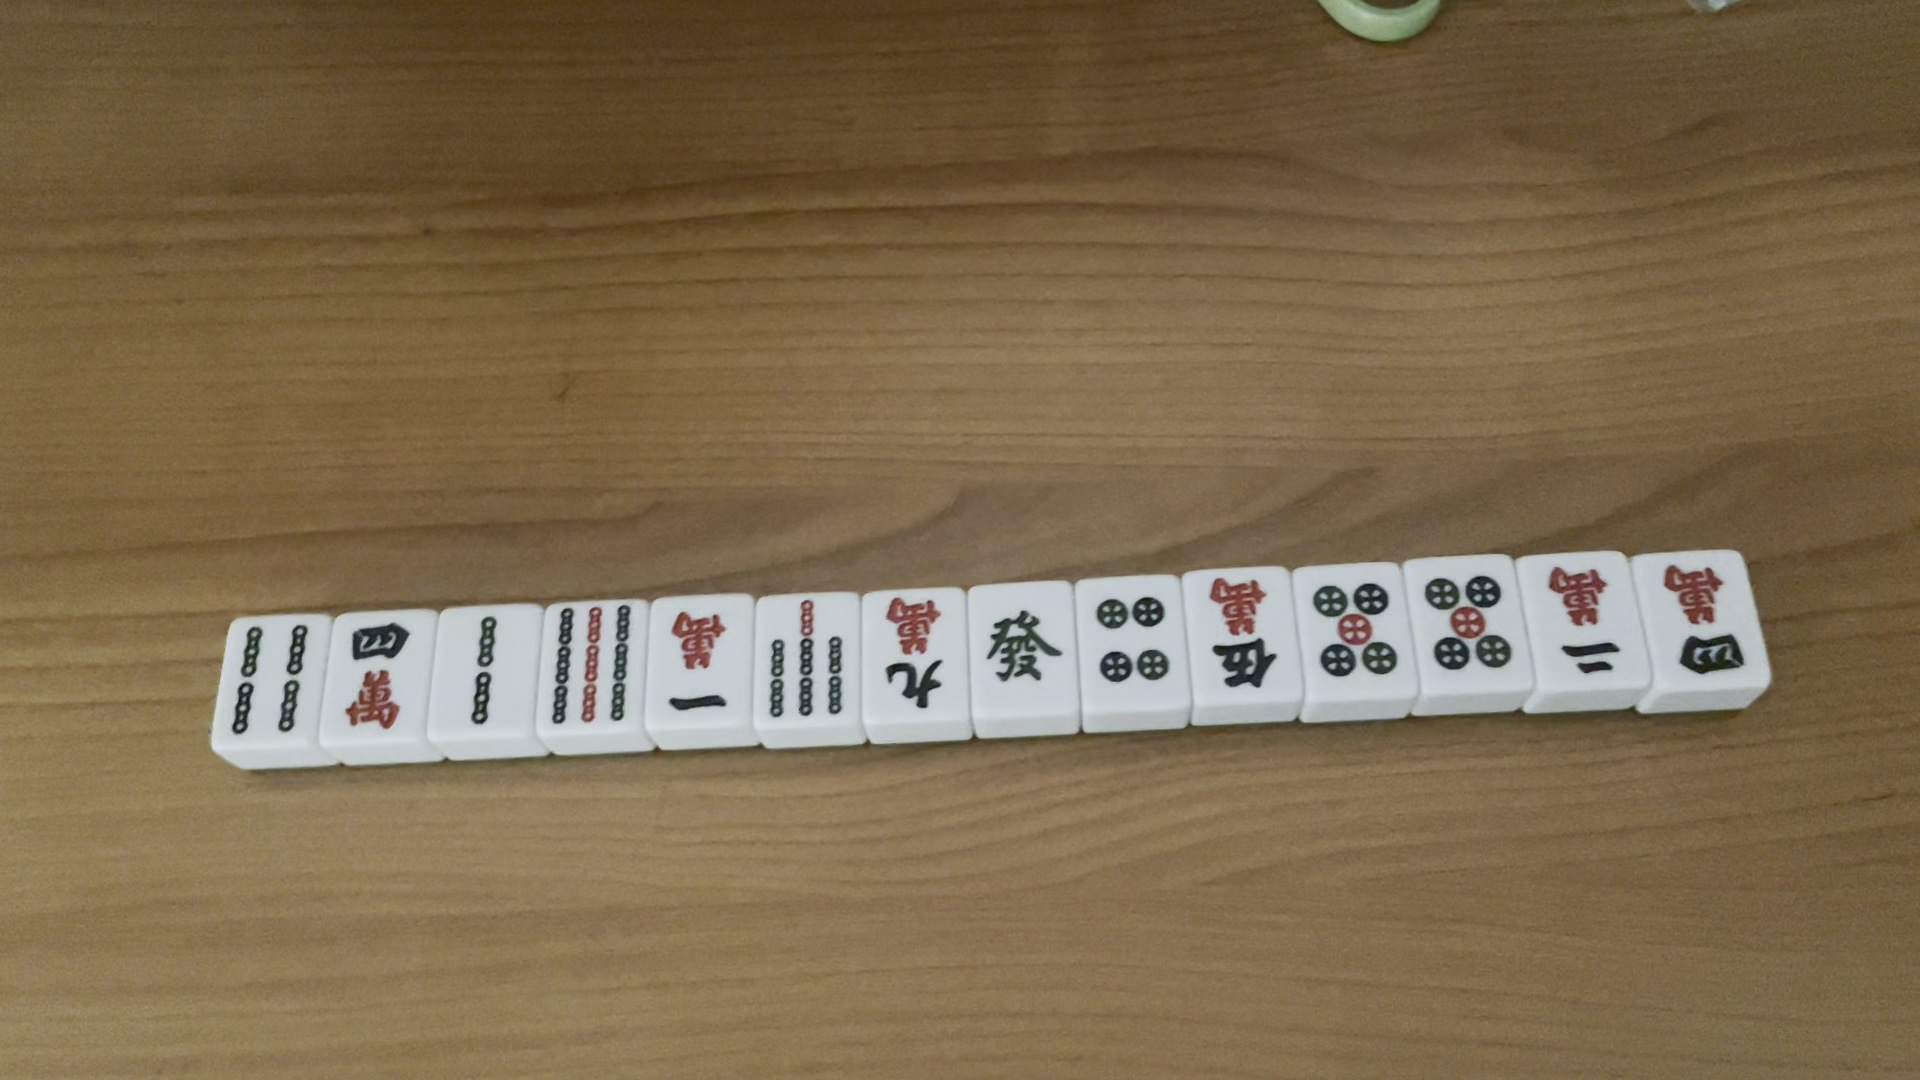b-2: (448, 615, 510, 728)
b-4: (223, 620, 313, 738)
b-7: (762, 596, 851, 717)
b-9: (549, 603, 632, 725)
c-1: (657, 608, 738, 720)
c-2: (1538, 563, 1633, 680)
c-4: (1658, 560, 1755, 679), (336, 624, 415, 728)
c-5: (1196, 574, 1286, 692)
c-9: (877, 595, 955, 713)
d-4: (1087, 588, 1176, 696)
d-5: (1303, 574, 1402, 684), (1425, 574, 1519, 680)
honors-green: (984, 605, 1064, 691)
